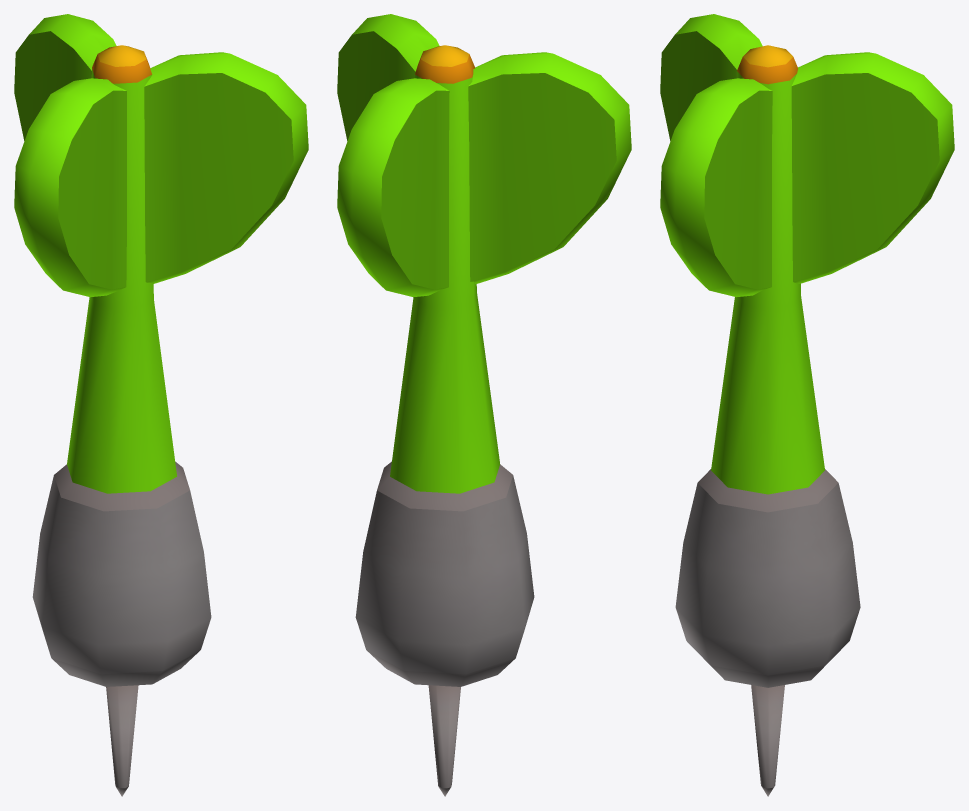
File: Dart_Pin.fbx
3 renders of one model, left to right at view 1: azimuth 30°, elevation 25°; view 2: azimuth 150°, elevation 25°; view 3: azimuth 270°, elevation 25°, orthographic.
Visible parts, largest first — view 1: Dart_Pin; view 2: Dart_Pin; view 3: Dart_Pin.
Part boxes in pixels (box(x1,y1,x2,y2)): Dart_Pin: box(14, 14, 308, 796); Dart_Pin: box(337, 14, 631, 796); Dart_Pin: box(660, 14, 954, 796).
Bounding box in the file's own units: 45.39 × 116 × 41.35.
